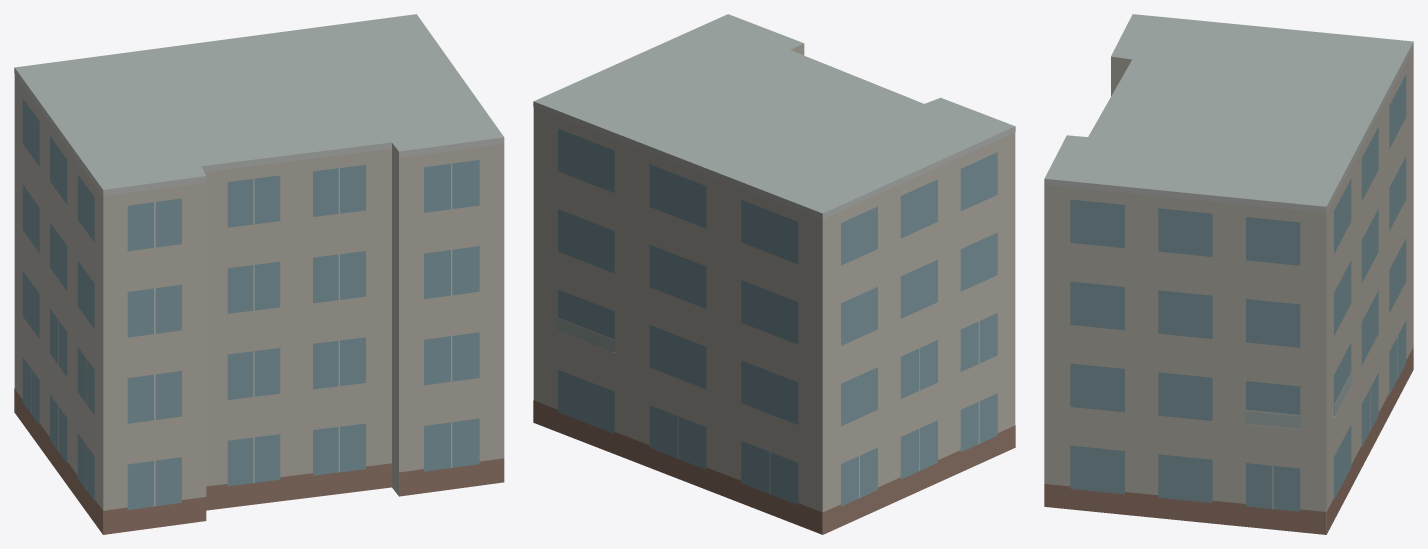
File: survey-upis-32767739.glb
3 views of the same model, side by side, from view 1: azimuth 30°, elevation 25°; view 2: azimuth 150°, elevation 25°; view 3: azimuth 270°, elevation 25° (orthographic). The views are drawn at different scales.
Parts seen in each view (by area): view 1: survey-upis-32767739.tmp; view 2: survey-upis-32767739.tmp; view 3: survey-upis-32767739.tmp.
Part boxes in pixels (x1,y1,x2,y2): survey-upis-32767739.tmp: (14,14,504,534); survey-upis-32767739.tmp: (533,14,1015,534); survey-upis-32767739.tmp: (1044,14,1413,534).
Size of the model in its own units: 16.45 by 13.04 by 13.31.
